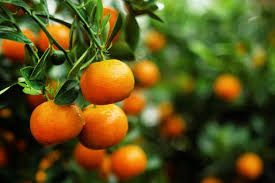orange: (78, 59, 136, 104), (27, 101, 85, 143), (79, 101, 129, 149)
